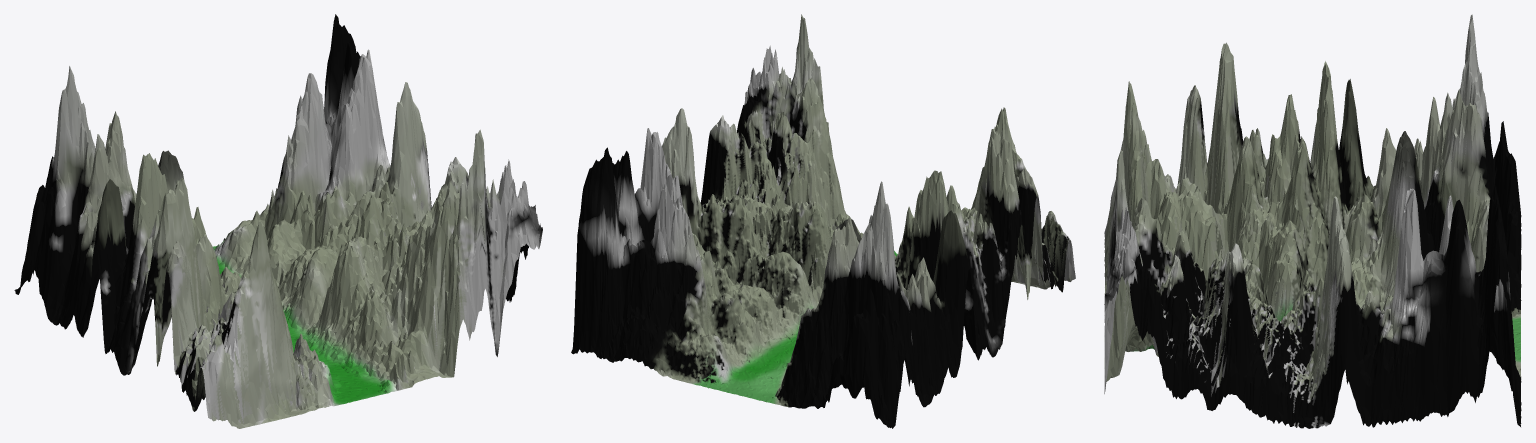
Rendered from path.fbx.
3 views of the same model, side by side, from view 1: azimuth 30°, elevation 25°; view 2: azimuth 150°, elevation 25°; view 3: azimuth 270°, elevation 25° (orthographic). The views are drawn at different scales.
Visible parts, largest first — view 1: path; view 2: path; view 3: path.
Boxes of the visible parts, x1,y1,x2,y2 form: path: [14, 14, 542, 428]; path: [571, 14, 1075, 428]; path: [1104, 14, 1521, 428].
Bounding box in the file's own units: 20037 × 13636 × 20046.
1 material, 1 textured.
